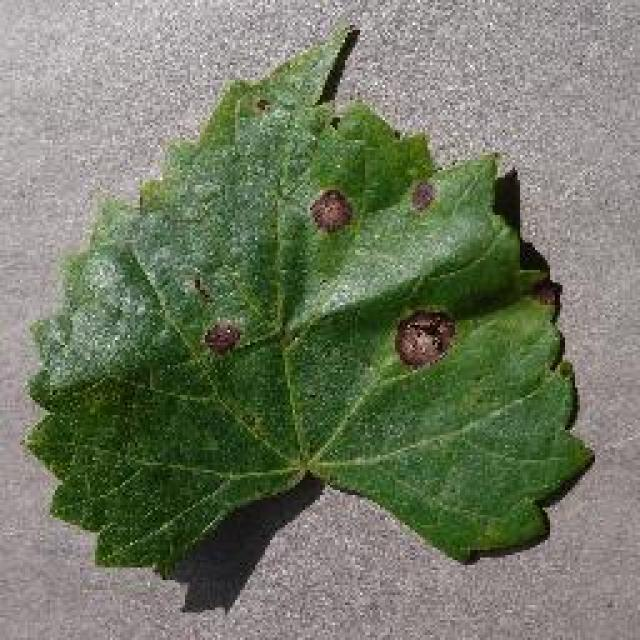Grape___Black_rot: (16, 25, 600, 586)
